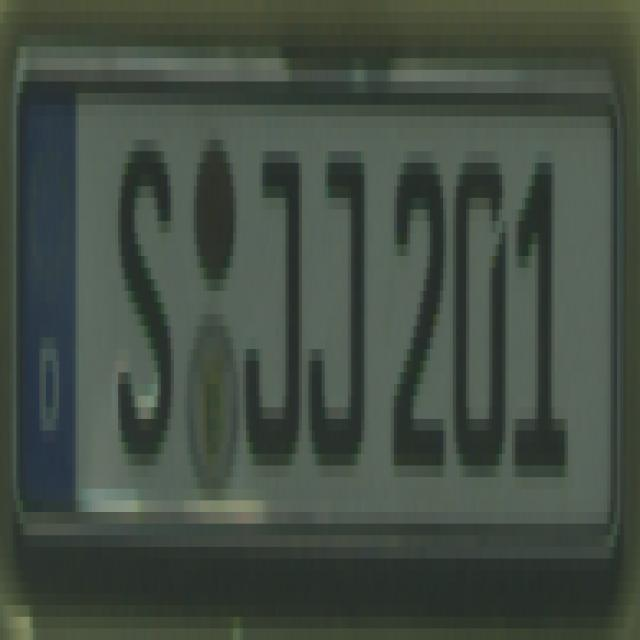Allemagne: (13, 66, 75, 513)
EU: (13, 71, 616, 570)
